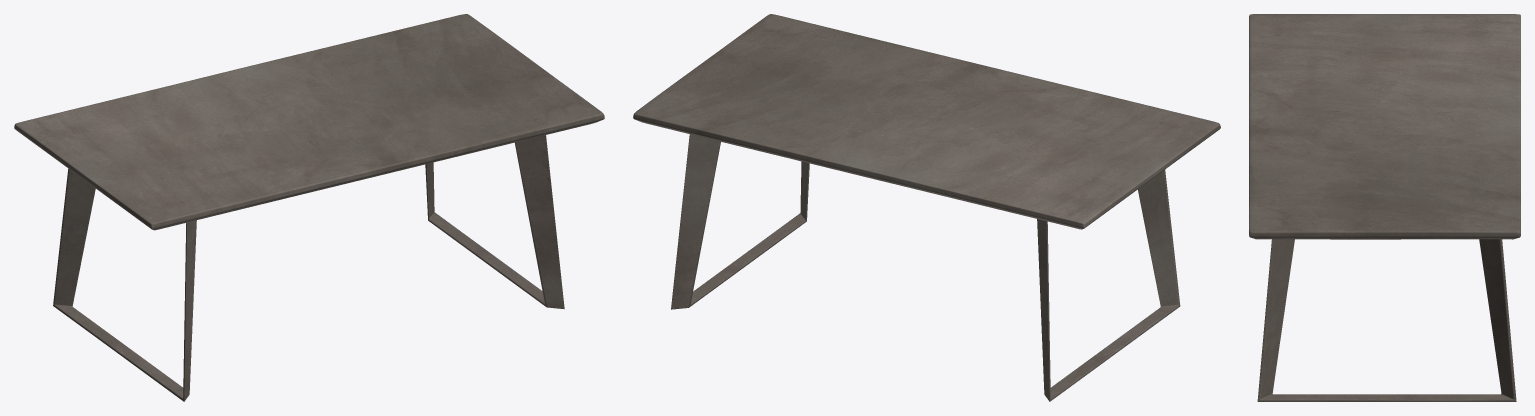
The model's file is bonediningtable.fbx.
3 views of the same model, side by side, from view 1: azimuth 30°, elevation 25°; view 2: azimuth 150°, elevation 25°; view 3: azimuth 270°, elevation 25° (orthographic).
Parts seen in each view (by area): view 1: Boone_Dining_Table; view 2: Boone_Dining_Table; view 3: Boone_Dining_Table.
Boxes of the visible parts, x1=… form: Boone_Dining_Table: x1=14, y1=14, x2=604, y2=401; Boone_Dining_Table: x1=633, y1=14, x2=1220, y2=401; Boone_Dining_Table: x1=1249, y1=14, x2=1520, y2=401.
Bounding box in the file's own units: 74.8 × 29.98 × 39.37.
